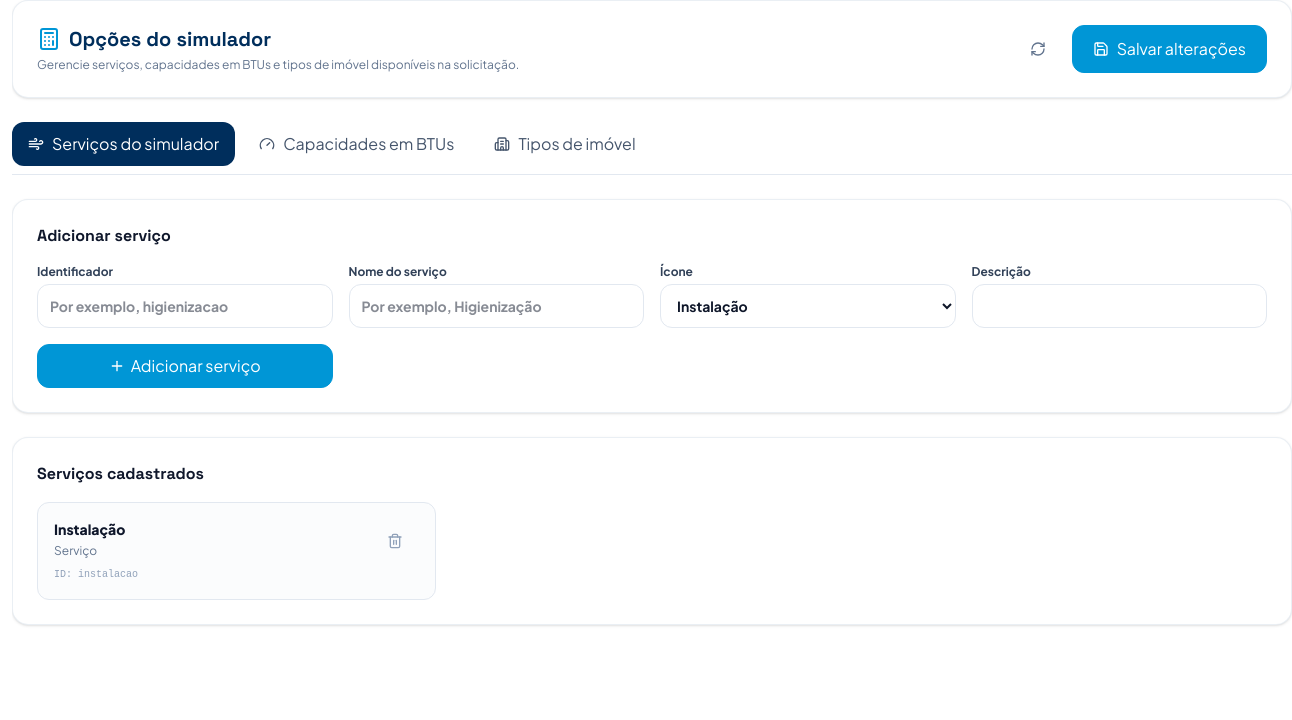
Test: SimulatorManager › mantém serviços, capacidades e tipos de imóvel administráveis
In the field labelled "Identificador": point(185, 306) [37,284,332,328], type "higienizacao"
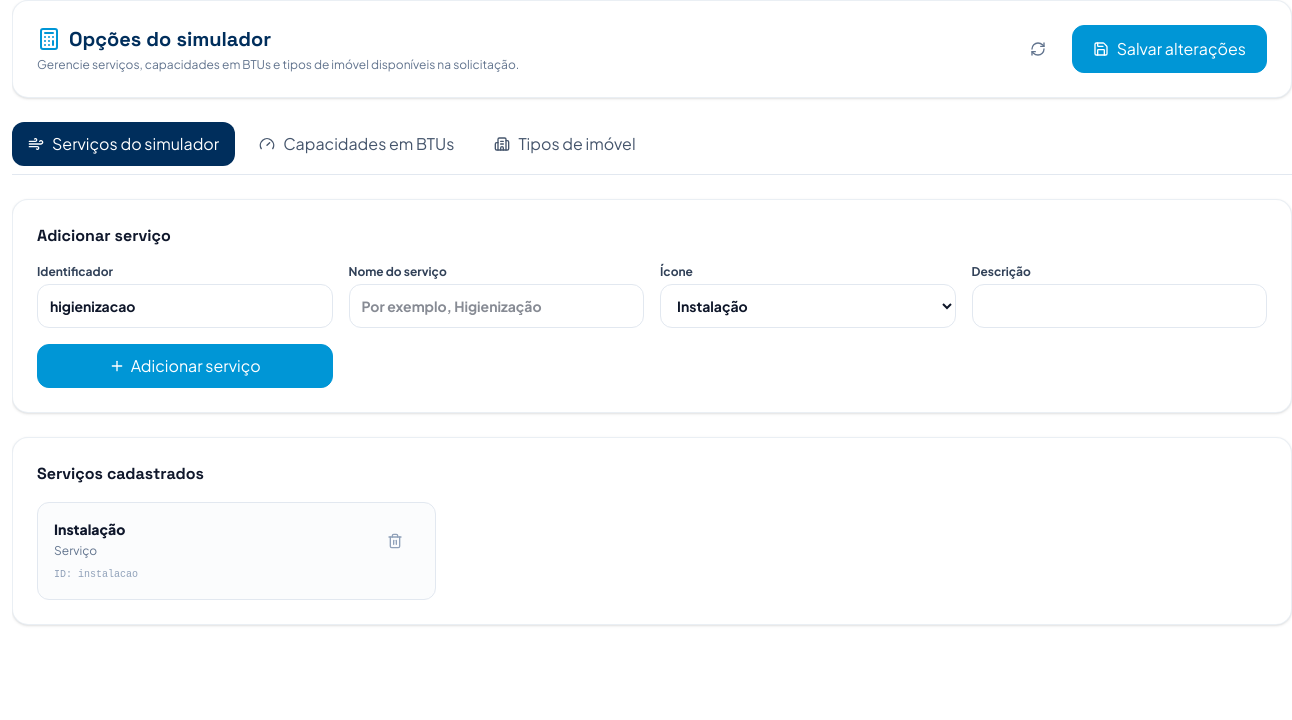
In the field labelled "Nome do serviço": point(496, 306) [348,284,644,328], type "Higienização"
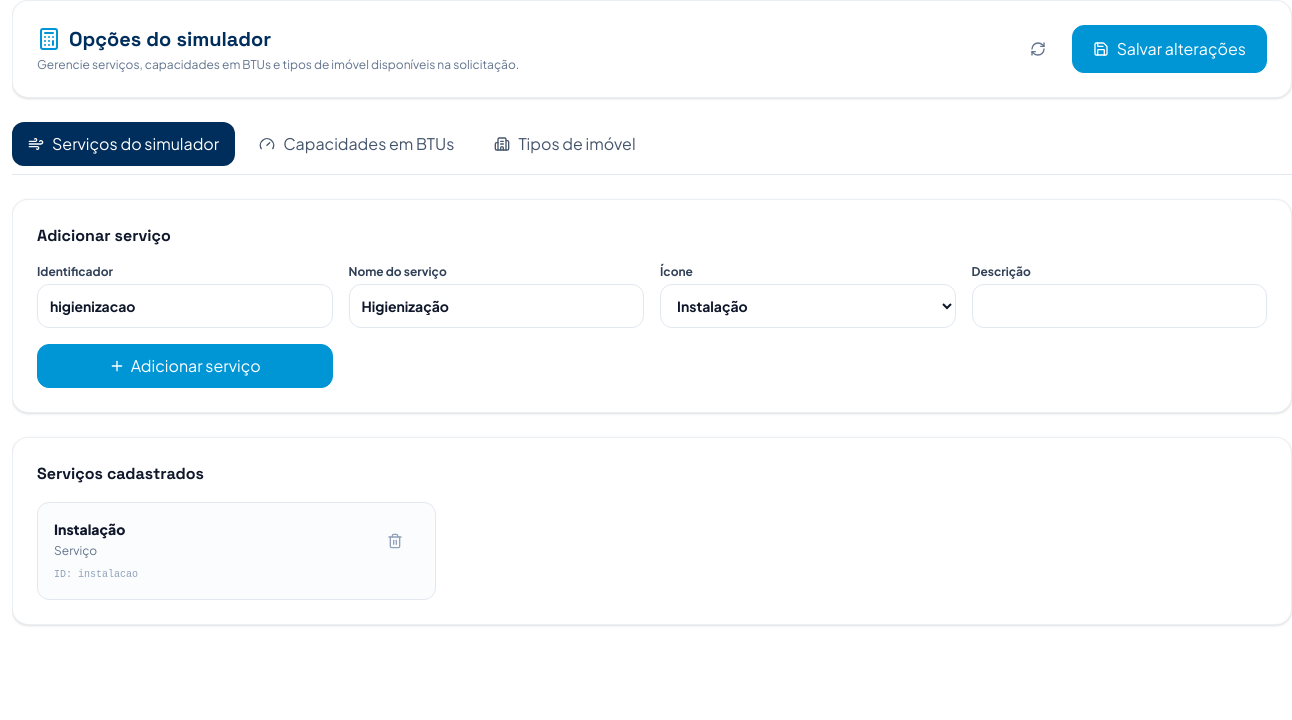
Click the button "Adicionar serviço": point(185, 366) [37,344,332,388]
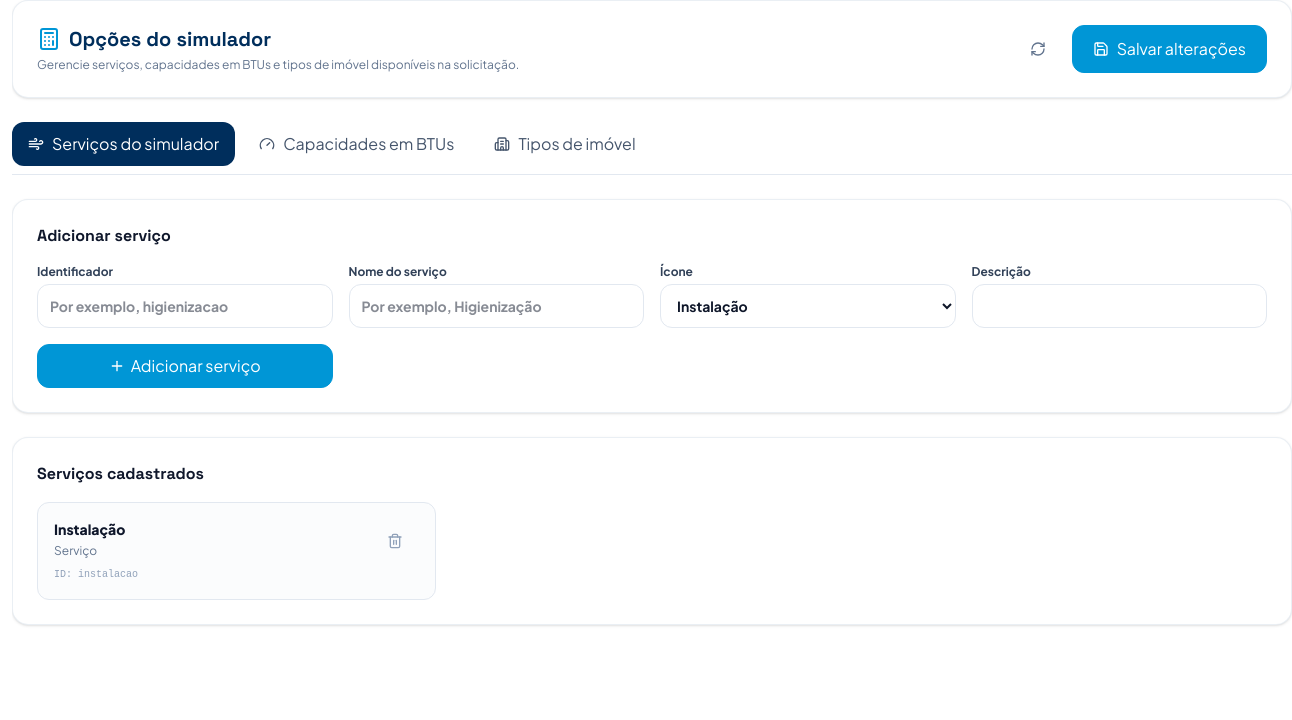
Click the tab "Capacidades em BTUs": point(357, 144) [243,122,470,166]
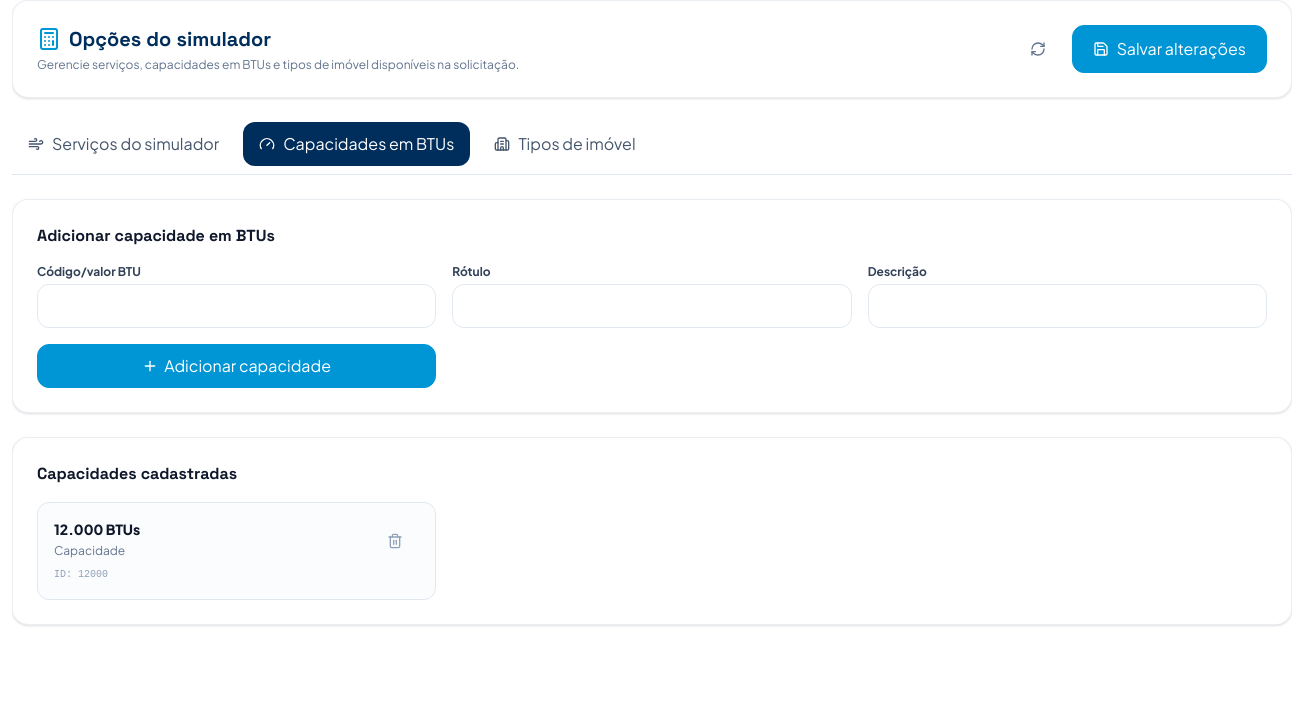
Expected: the button "Adicionar capacidade" is shown, [37,344,436,388]
Click the tab "Tipos de imóvel": point(565, 144) [478,122,652,166]
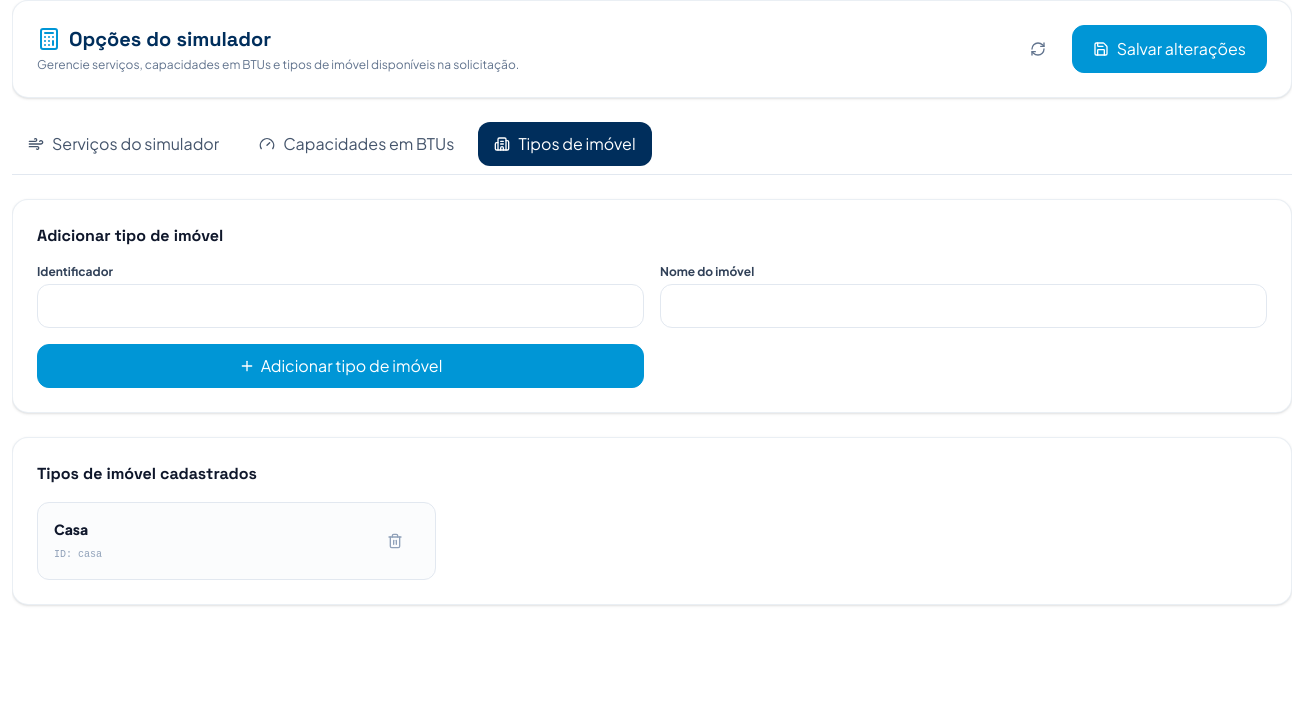
Expected: the button "Adicionar tipo de imóvel" is shown, [37,344,644,388]
